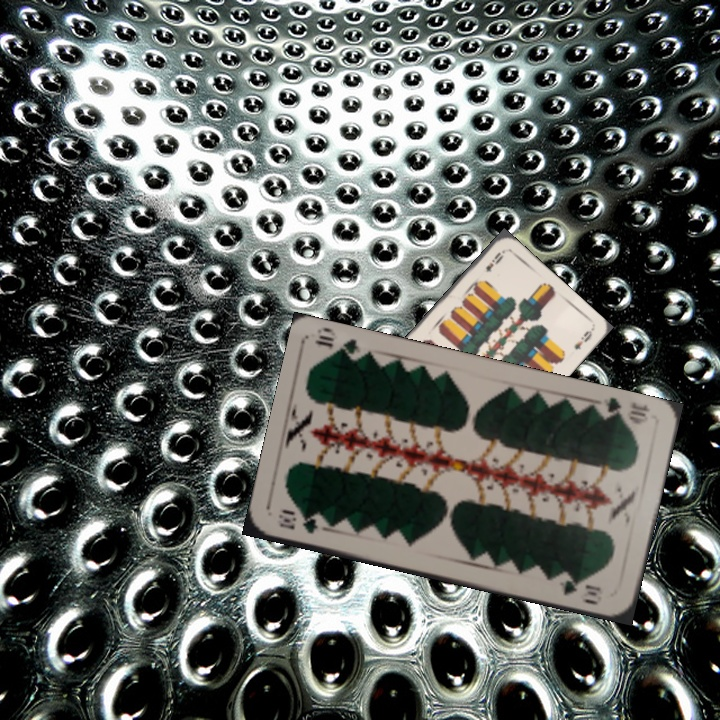E9: (482, 247, 507, 275)
G10: (594, 393, 652, 427), (274, 507, 321, 537)
